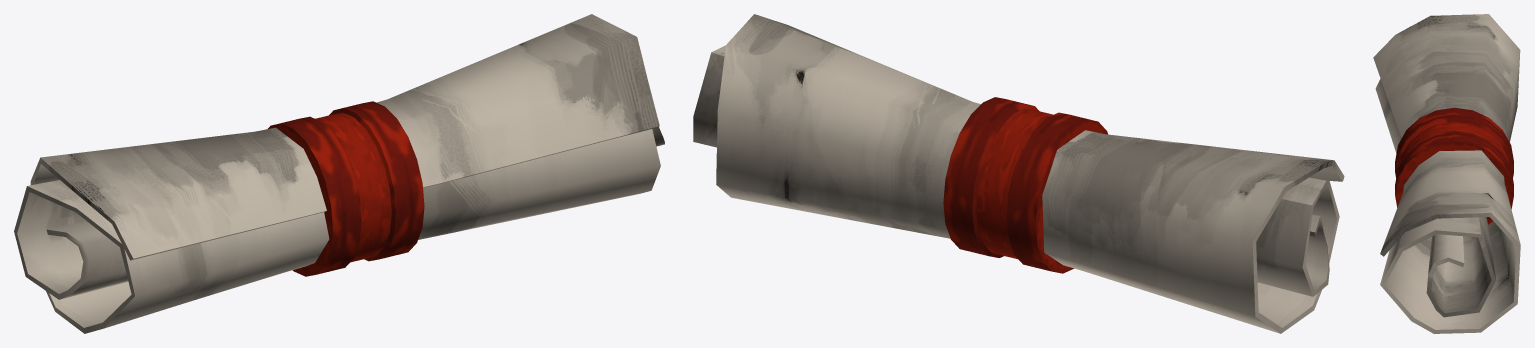
Rendered from Scroll_2.gltf.
3 views of the same model, side by side, from view 1: azimuth 30°, elevation 25°; view 2: azimuth 150°, elevation 25°; view 3: azimuth 270°, elevation 25° (orthographic). The views are drawn at different scales.
Parts seen in each view (by area): view 1: Scroll_2; view 2: Scroll_2; view 3: Scroll_2.
Part boxes in pixels (x1,y1,x2,y2): Scroll_2: [14, 14, 664, 333]; Scroll_2: [693, 14, 1344, 333]; Scroll_2: [1373, 14, 1520, 333].
Bounding box in the file's own units: 0.2329 × 0.0587 × 0.0637.
Materials: 2 (2 with a texture image).
